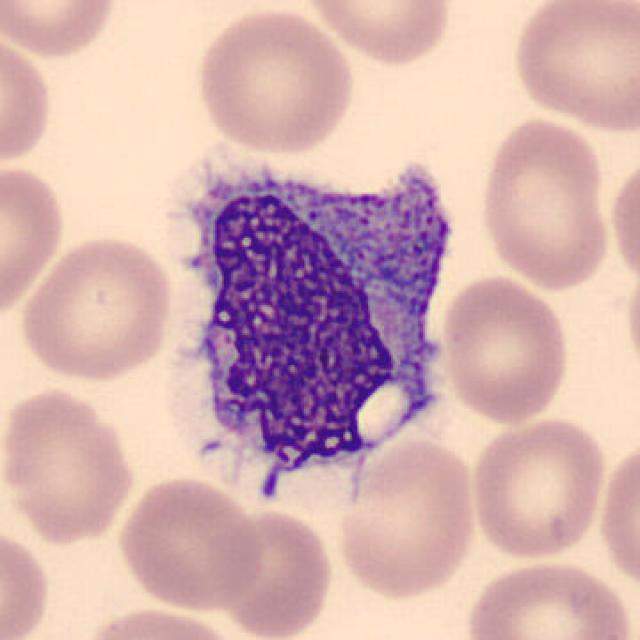Monocyte: (164, 136, 462, 511)
RBC: (190, 3, 359, 157), (14, 231, 178, 386), (332, 434, 482, 603), (475, 113, 613, 293), (0, 383, 139, 548), (112, 472, 267, 614), (466, 412, 610, 562), (436, 272, 574, 426), (204, 504, 338, 640), (507, 0, 638, 134), (458, 555, 636, 640), (0, 158, 69, 322), (297, 0, 457, 67), (0, 30, 57, 171), (594, 433, 640, 598), (0, 0, 121, 62), (0, 522, 55, 640), (73, 604, 247, 640), (606, 150, 640, 291), (622, 252, 640, 384)
